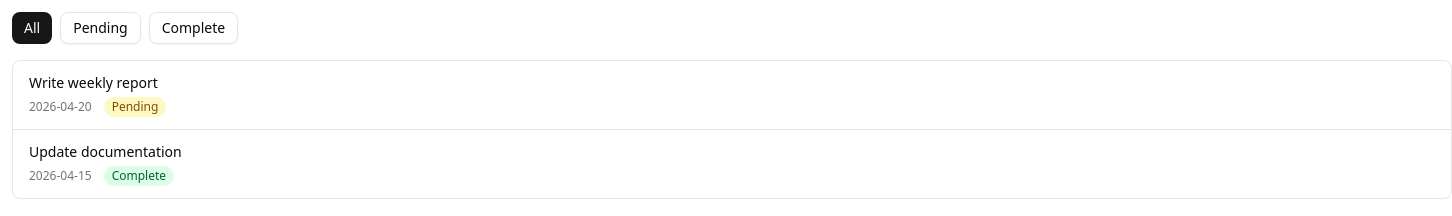
Test: AC-5 through AC-8: Status filter › AC-6: selecting "Pending" shows only pending tasks (no page reload)
This screenshot has width=1452, height=216.
Expected: the text "Update documentation" is shown, [29,142,182,161]
Click the button "Pending" at (100, 28), box [60,12,141,44]
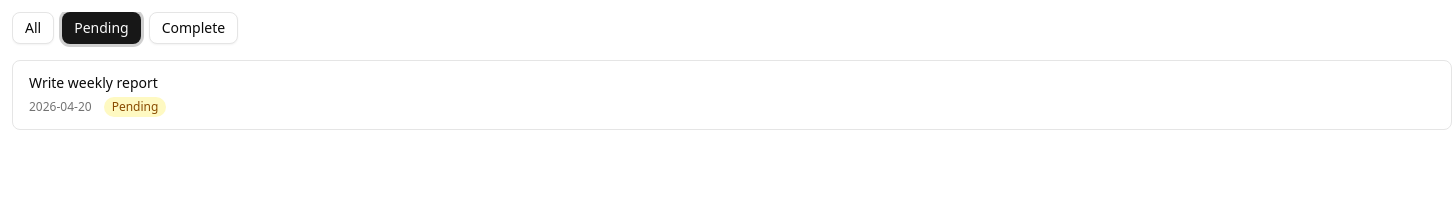
Expected: the text "Write weekly report" is shown, [29,73,158,92]
Now the button "Update documentation" is gone
